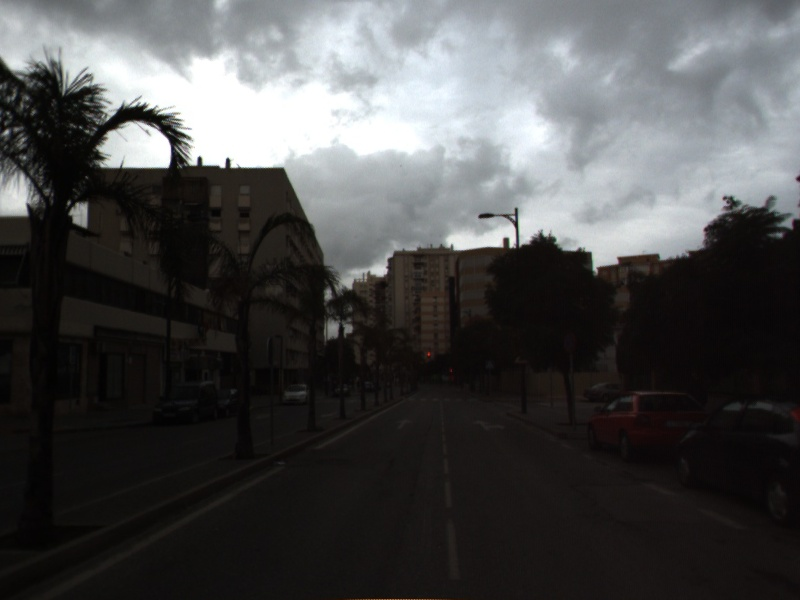STRAIGHT: (394, 417, 415, 431)
STRAIGHT_RIGHT: (471, 418, 507, 432)
